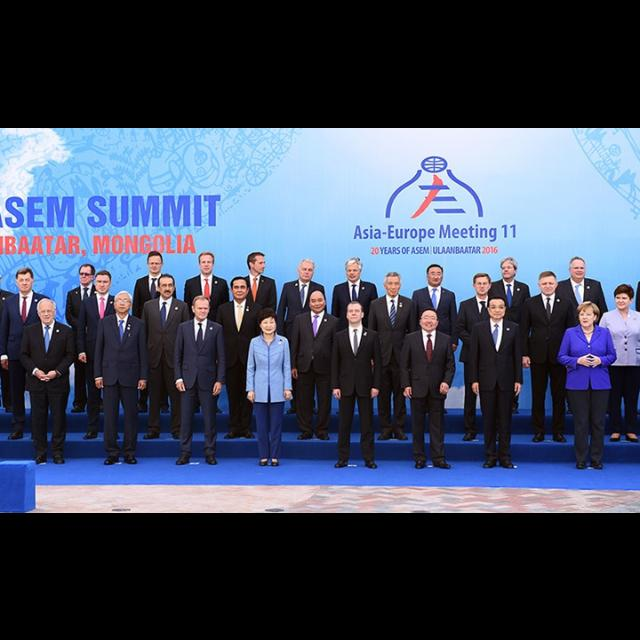head: (614, 284, 636, 310), (192, 296, 214, 322), (258, 307, 278, 335), (568, 256, 588, 282), (578, 302, 598, 328), (308, 288, 328, 314), (38, 298, 58, 324), (15, 268, 35, 292), (297, 258, 317, 282), (384, 272, 404, 296), (472, 272, 492, 296), (538, 271, 558, 295), (488, 296, 508, 320), (420, 307, 440, 331), (346, 300, 366, 324), (230, 276, 250, 300), (158, 274, 178, 298), (95, 270, 114, 294), (198, 252, 218, 274), (247, 252, 267, 274), (426, 264, 446, 286), (114, 292, 134, 314), (344, 258, 362, 282), (147, 252, 165, 274), (501, 258, 519, 280), (80, 264, 96, 286)
person: (558, 299, 618, 469), (468, 296, 526, 468), (94, 288, 150, 466), (398, 305, 458, 469), (550, 254, 610, 416), (520, 271, 576, 444), (172, 294, 228, 466), (19, 296, 76, 464), (74, 269, 128, 441), (456, 272, 510, 442), (0, 266, 52, 440), (332, 300, 384, 470), (217, 276, 269, 440), (368, 272, 418, 442), (141, 273, 191, 441), (289, 288, 343, 442), (277, 257, 329, 415), (411, 262, 462, 416), (247, 307, 296, 467), (183, 250, 230, 414), (332, 256, 380, 416), (132, 251, 178, 415), (64, 262, 112, 414), (488, 256, 534, 414), (235, 250, 279, 412)
